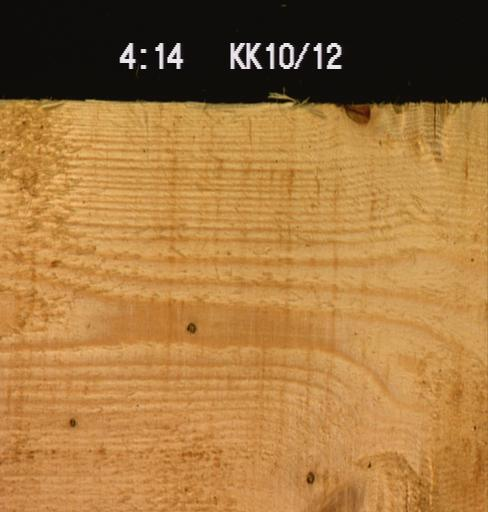dry_knot: (65, 410, 80, 431), (182, 317, 198, 336), (301, 466, 315, 486)
